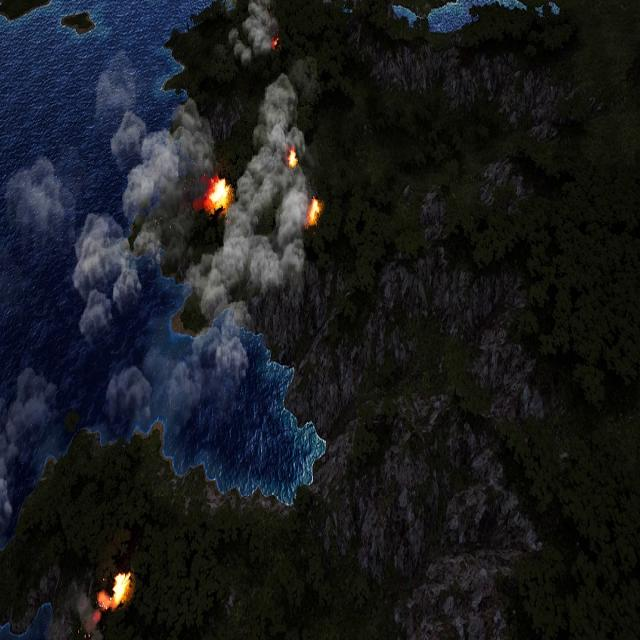fire: (207, 177, 230, 213), (111, 574, 131, 607), (308, 198, 322, 227), (287, 149, 297, 169), (272, 35, 280, 49)
smoke: (75, 50, 322, 413), (0, 363, 59, 516), (3, 156, 64, 244), (51, 570, 109, 640), (220, 0, 280, 65)
